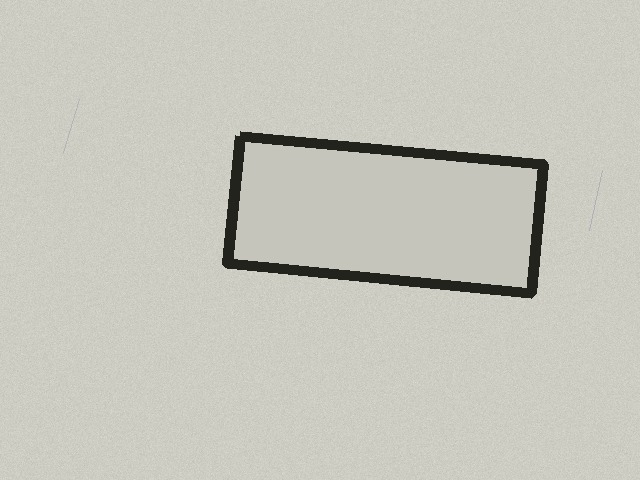parking_area: (227, 136, 543, 293)
